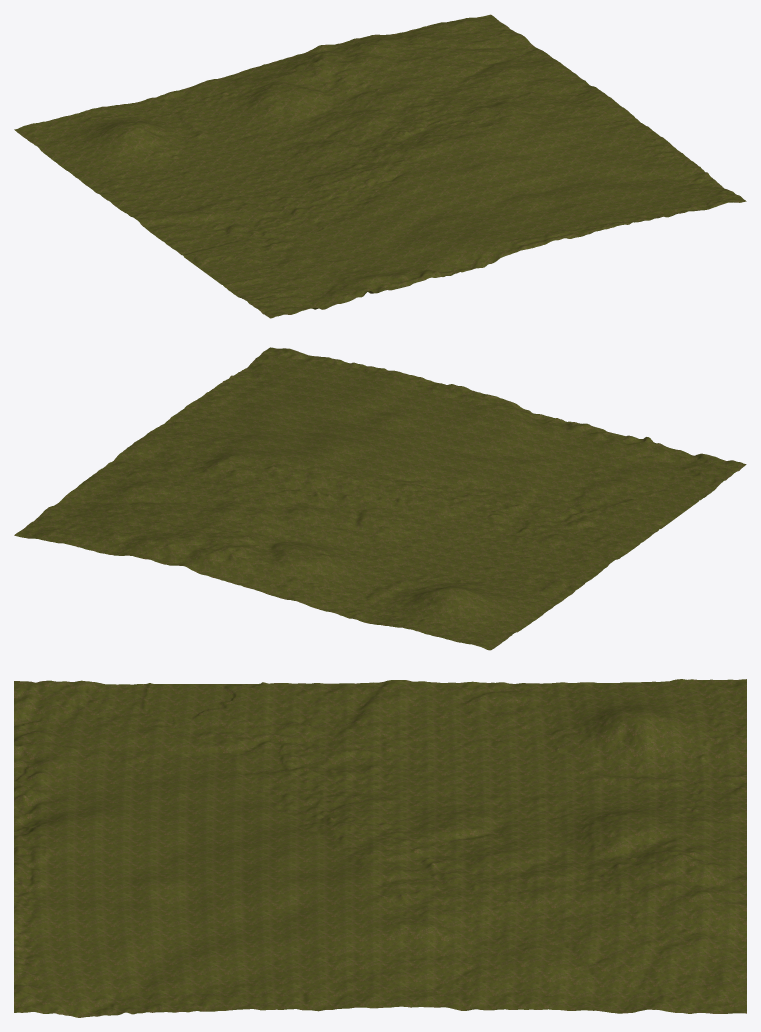
Rendered from tiled_map6.glb.
3 renders of one model, top to bottom at view 1: azimuth 30°, elevation 25°; view 2: azimuth 150°, elevation 25°; view 3: azimuth 270°, elevation 25°, orthographic. The views are drawn at different scales.
Visible parts, largest first — view 1: EXPORT_GOOGLE_SAT_WM.007; view 2: EXPORT_GOOGLE_SAT_WM.007; view 3: EXPORT_GOOGLE_SAT_WM.007.
Boxes of the visible parts, x1,y1,x2,y2 form: EXPORT_GOOGLE_SAT_WM.007: (14,14,746,318); EXPORT_GOOGLE_SAT_WM.007: (14,347,746,650); EXPORT_GOOGLE_SAT_WM.007: (14,679,746,1017).
Size of the model in its own units: 106 by 4.59 by 98.41.
Materials: 1 (1 with a texture image).
